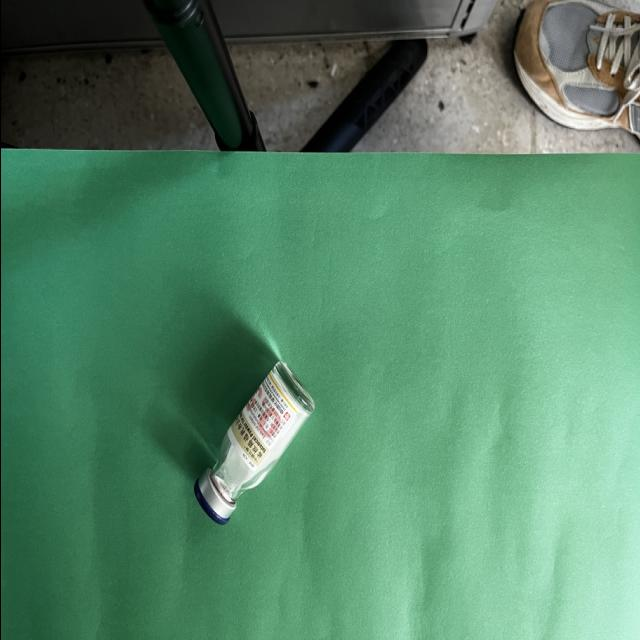Vials: (194, 361, 314, 523)
